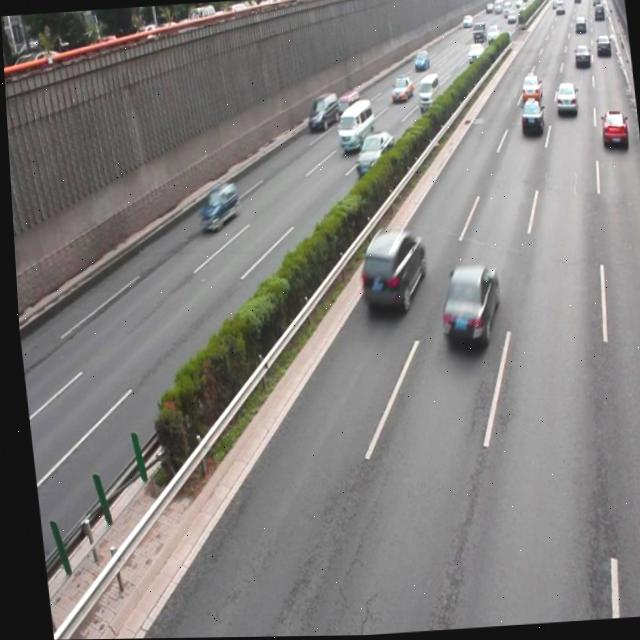car: (351, 225, 426, 316), (430, 260, 499, 351), (195, 181, 237, 232), (350, 132, 394, 179), (597, 110, 626, 152), (516, 99, 541, 137), (551, 83, 576, 115), (517, 74, 542, 104), (387, 76, 412, 105)
truck: (333, 101, 374, 154), (304, 93, 339, 131), (414, 75, 440, 113), (333, 89, 358, 121)
